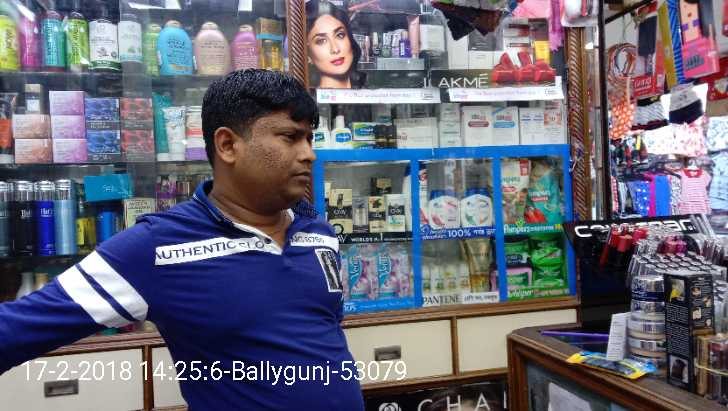venus: (376, 243, 409, 295), (345, 244, 376, 295)
